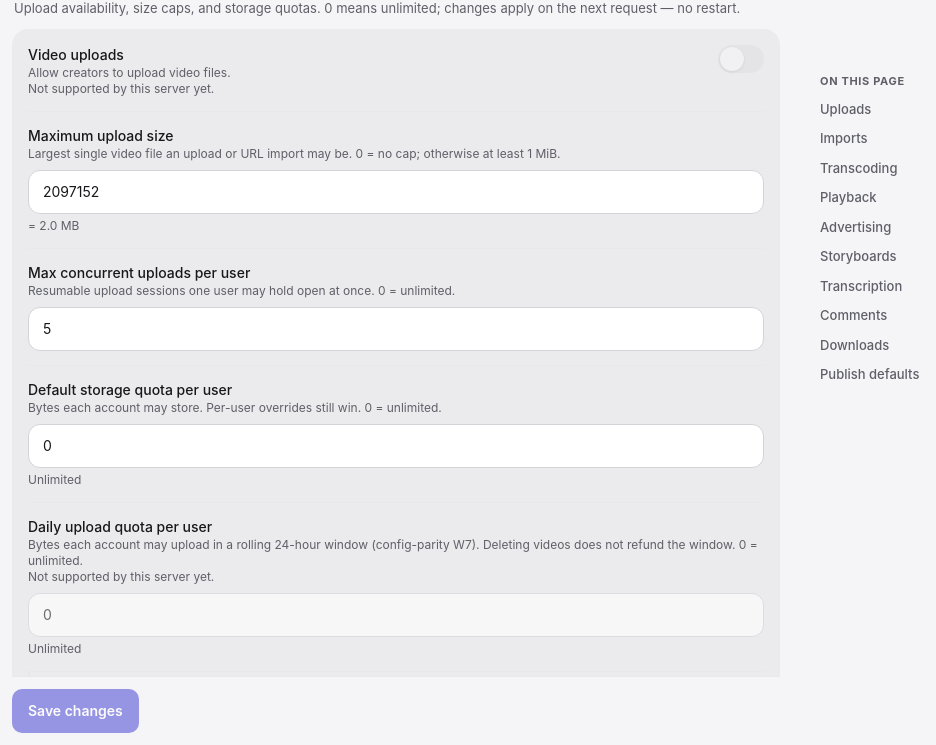
Test: AdminInstanceConfigView limits (VOD page) › saves a single section's changed keys via its Save section button
Replace the text in the number field named "Max concurrent uploads per user" with "7" at (396, 328), box [28,306,764,350]
(page scrolled)
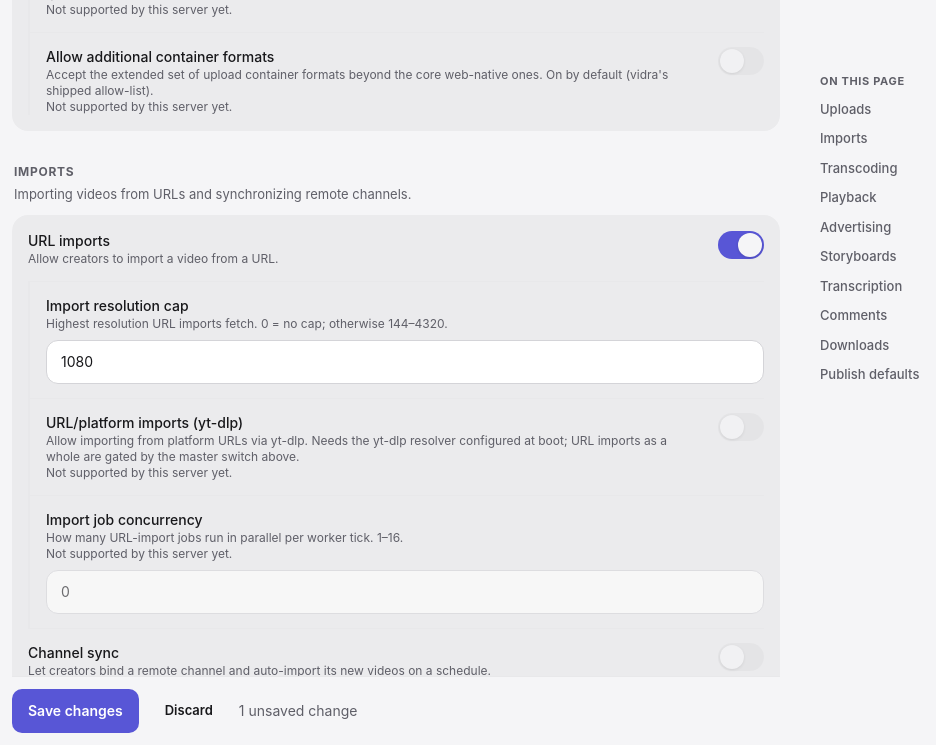
Replace the text in the number field named "Import resolution cap" with "720" at (405, 362), box [46,340,764,384]
(page scrolled)
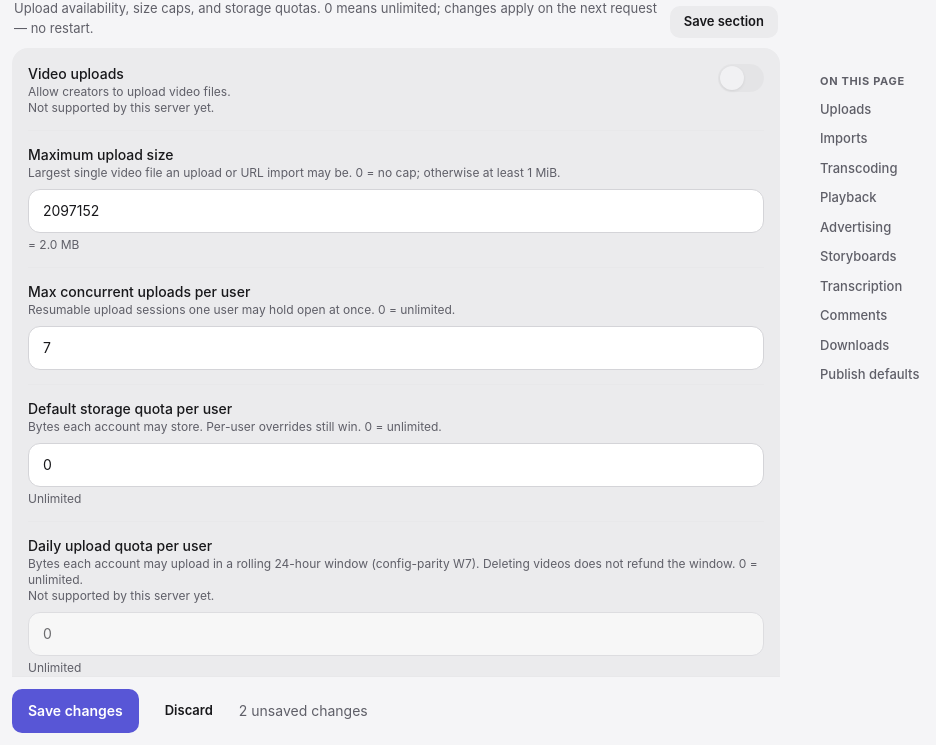
Click the button with aria-label "Save Uploads".
click(724, 22)  # box [670,6,778,38]
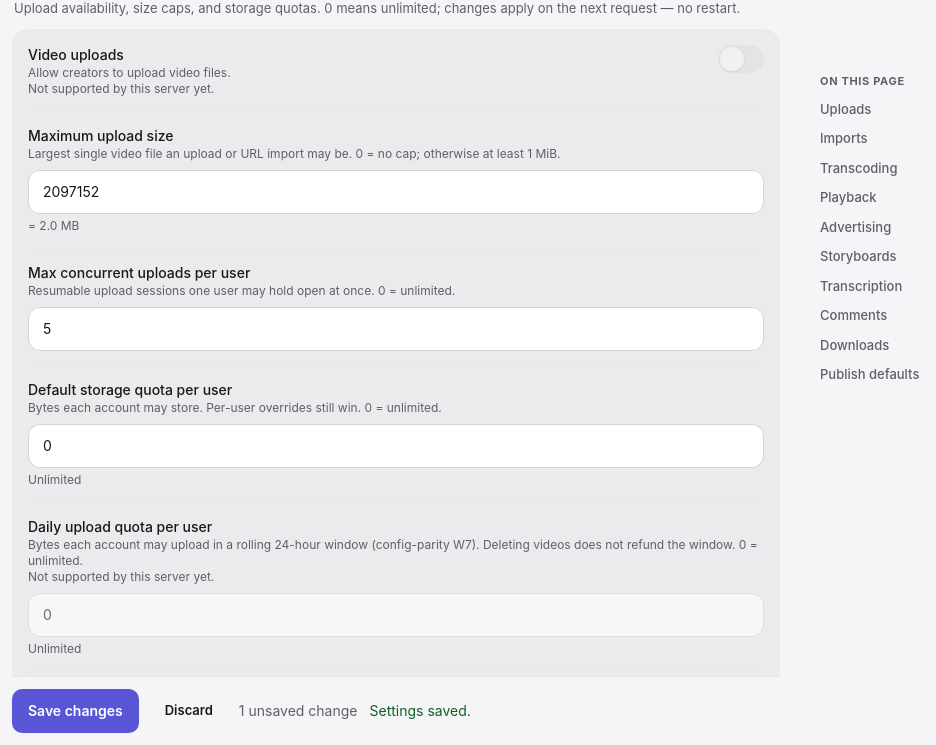
Result: the text "1 unsaved change" is shown at [239,701,358,721]
